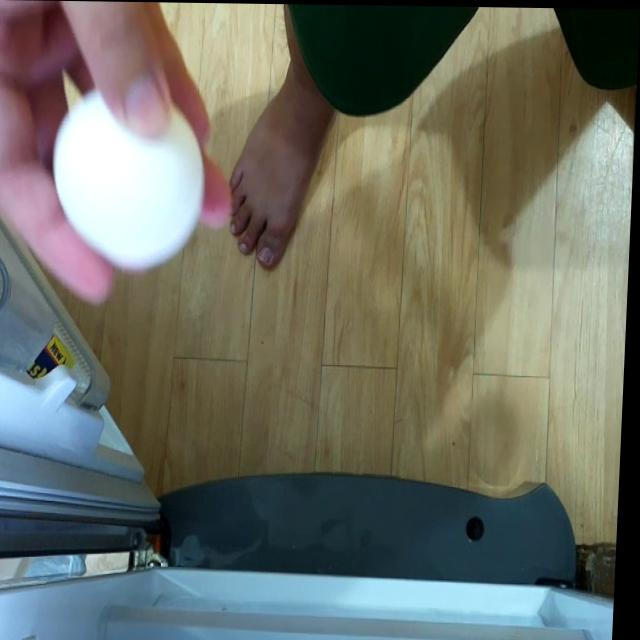egg: (47, 87, 211, 276)
